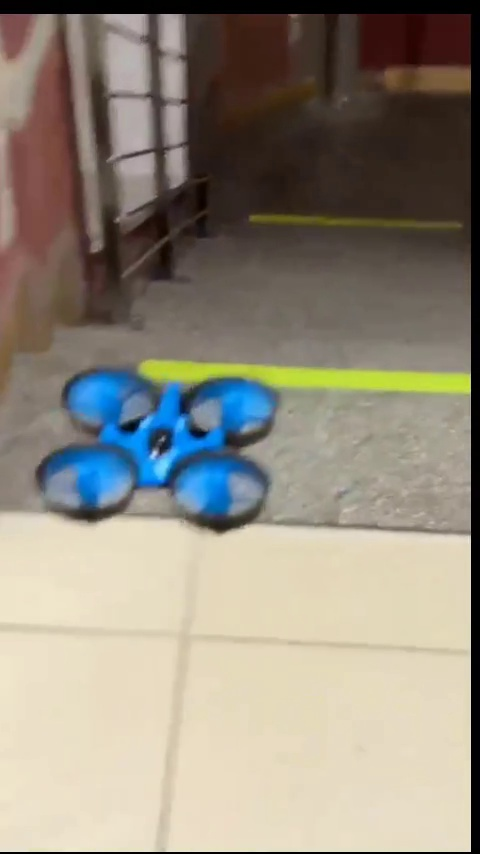drone: (33, 370, 275, 529)
